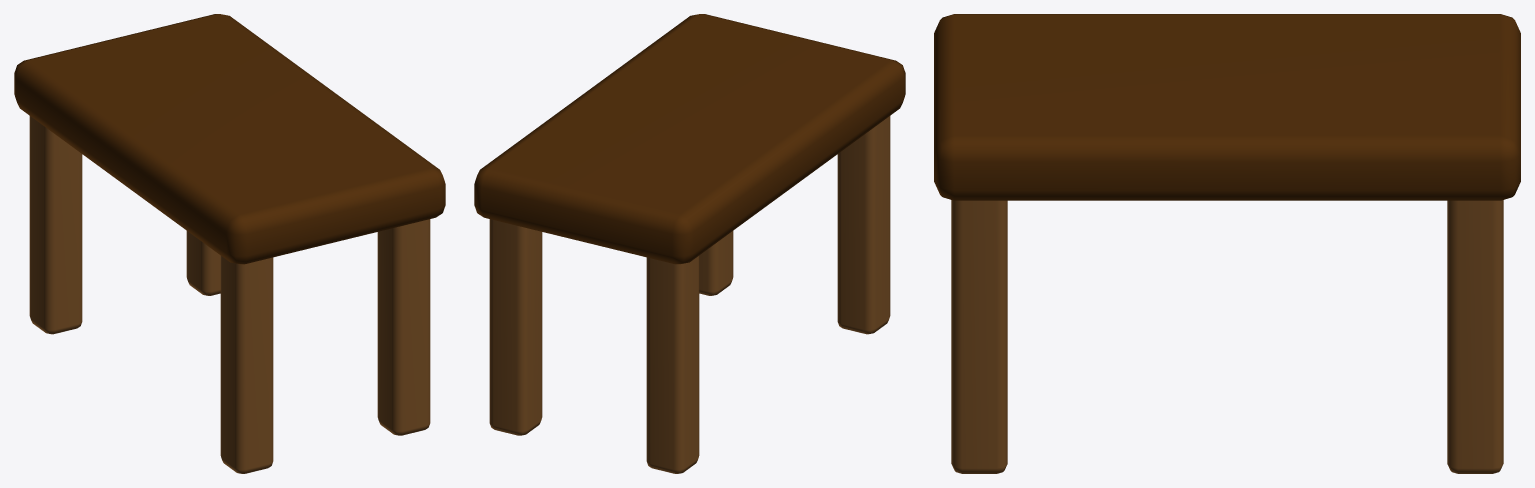
Rendered from footstool_02_wooden.fbx.
The picture shows the model from 3 angles, left to right: view 1: azimuth 30°, elevation 25°; view 2: azimuth 150°, elevation 25°; view 3: azimuth 270°, elevation 25°; orthographic projection. The views are drawn at different scales.
Visible parts, largest first — view 1: footstool_02_wooden; view 2: footstool_02_wooden; view 3: footstool_02_wooden.
Boxes of the visible parts, x1,y1,x2,y2 form: footstool_02_wooden: (14,14,445,473); footstool_02_wooden: (474,14,905,473); footstool_02_wooden: (934,14,1520,473).
Size of the model in its own units: 40.47 by 46.73 by 72.77.
1 material, 1 textured.
